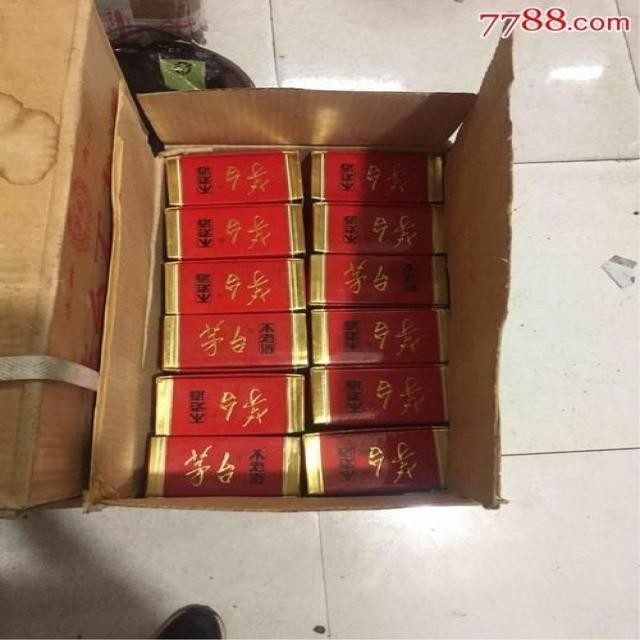box: (83, 18, 516, 514), (302, 426, 449, 495), (155, 370, 306, 436), (161, 312, 308, 371), (311, 363, 451, 424), (164, 256, 307, 315), (311, 305, 451, 365), (165, 202, 307, 258), (310, 254, 448, 307), (168, 151, 303, 205), (312, 201, 448, 254), (310, 152, 442, 202)
